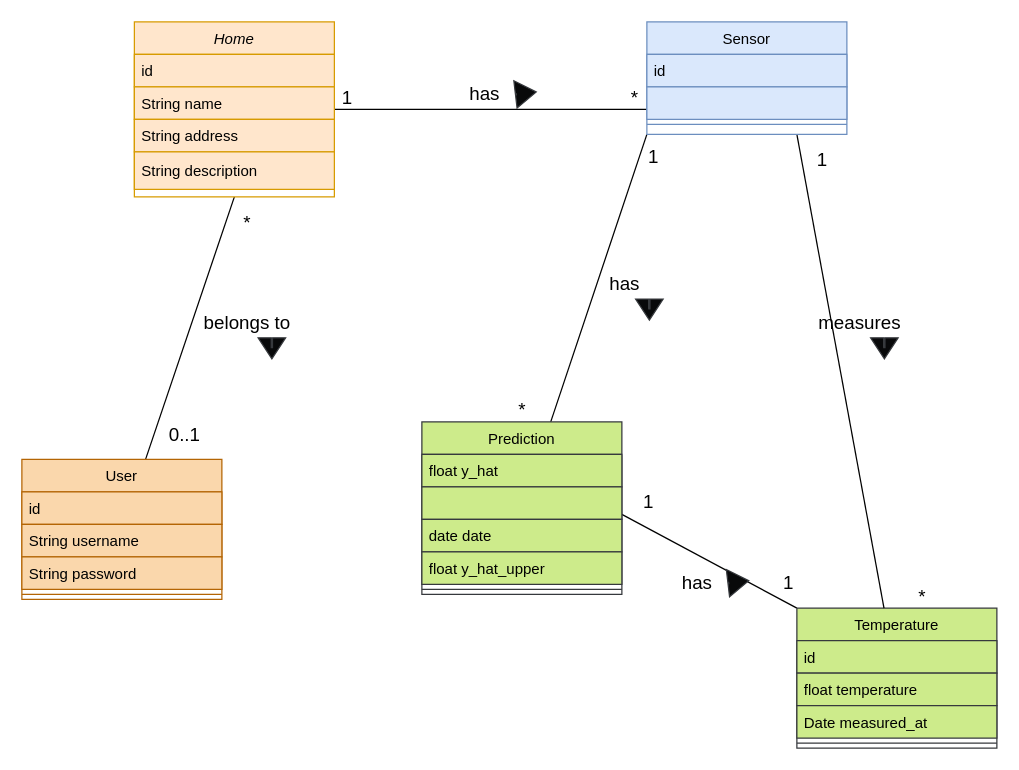
Some shapes in this 1019 by 770 pixel diagram are drawn without their labels. The centre of each missing label's shape, as x and y in pixels:
"float y_hat_lower" goes at point 521,502.
"String room" goes at point 746,102.
